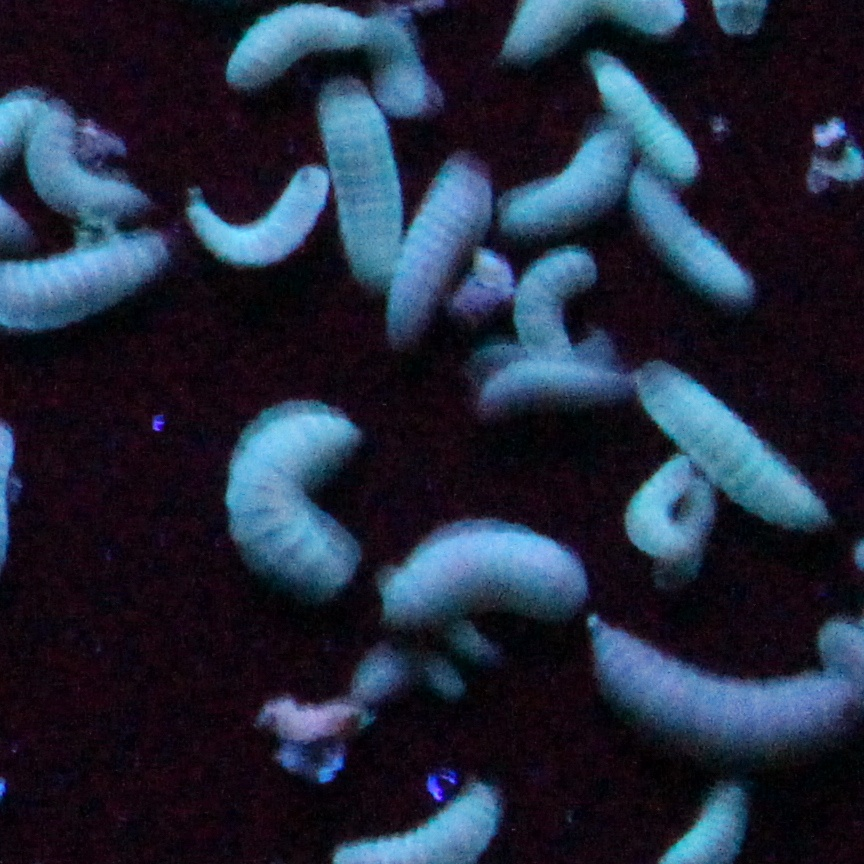larve: (578, 620, 846, 772), (214, 416, 366, 604), (634, 376, 842, 512), (394, 512, 582, 628), (622, 168, 766, 300), (324, 83, 405, 287), (402, 164, 478, 340), (223, 12, 354, 102), (496, 138, 618, 234), (190, 172, 318, 252), (511, 247, 595, 361), (590, 60, 682, 160), (628, 459, 714, 557), (470, 360, 606, 416)
